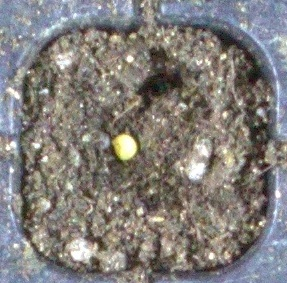chilli seed: (110, 133, 137, 161)
